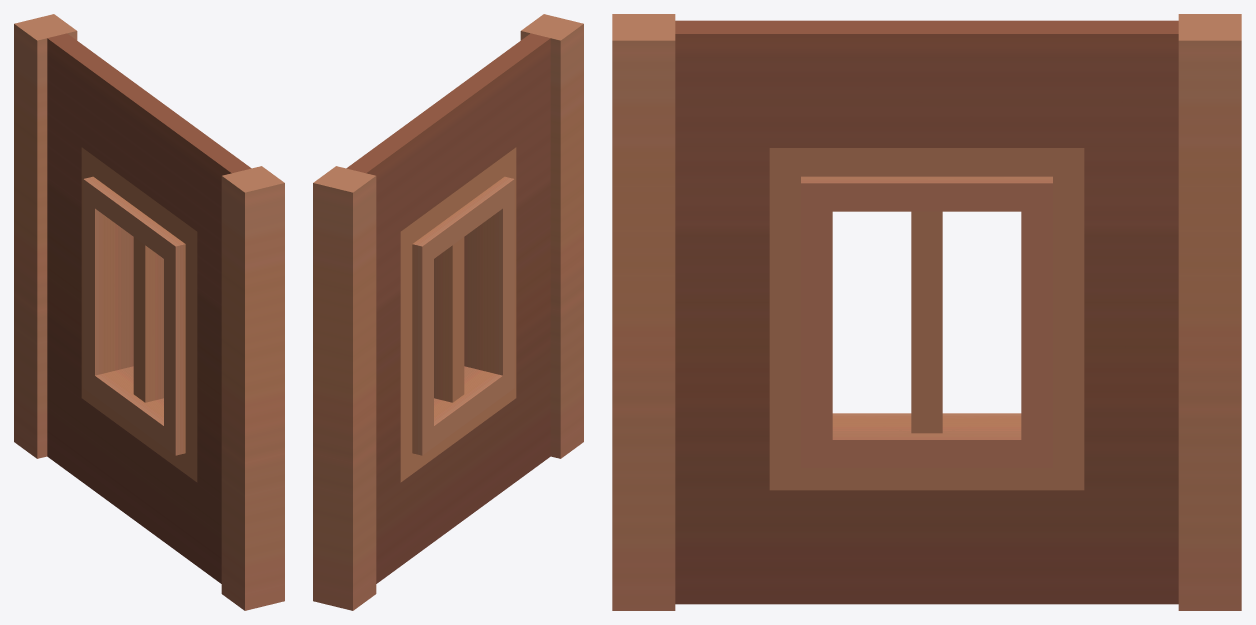
The model's file is wall-wood-window-shutters.glb.
The picture shows the model from 3 angles, left to right: view 1: azimuth 30°, elevation 25°; view 2: azimuth 150°, elevation 25°; view 3: azimuth 270°, elevation 25°; orthographic projection. The views are drawn at different scales.
Parts seen in each view (by area): view 1: wall-wood-window-shutters; view 2: wall-wood-window-shutters; view 3: wall-wood-window-shutters.
Part boxes in pixels (x1,y1,x2,y2): wall-wood-window-shutters: (14,14,284,610); wall-wood-window-shutters: (313,14,583,610); wall-wood-window-shutters: (612,14,1241,610).
Size of the model in its own units: 0.1 by 1 by 1.
1 material, 1 textured.
